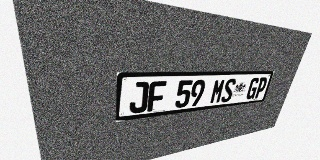5: (175, 80, 193, 108)
9: (189, 79, 206, 107)
F: (147, 81, 167, 112)
G: (245, 77, 260, 100)
J: (129, 81, 149, 114)
M: (209, 79, 226, 104)
P: (254, 77, 268, 99)
S: (220, 78, 237, 103)
